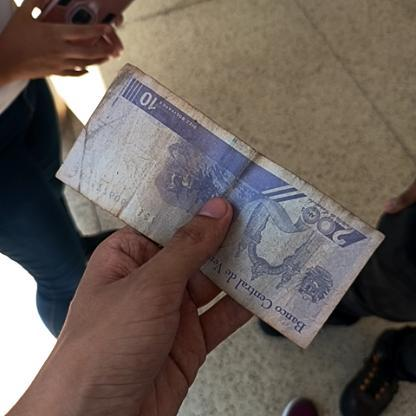ten-back-vef: (52, 61, 390, 358)
